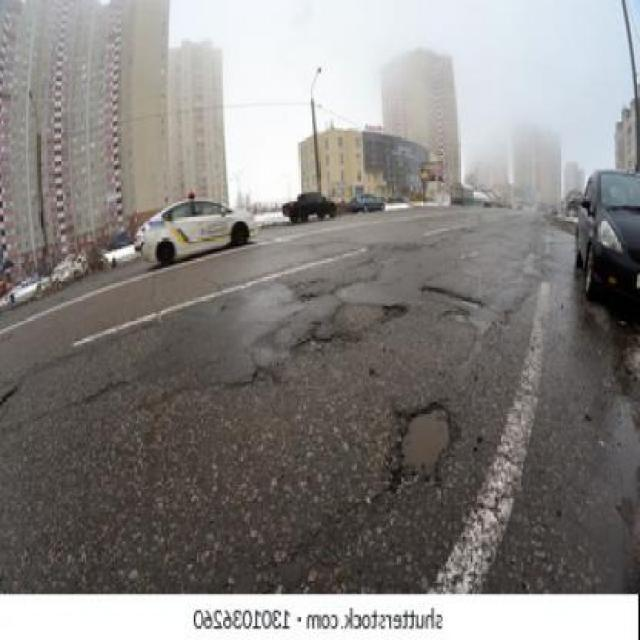Pothole: (390, 397, 457, 494)
